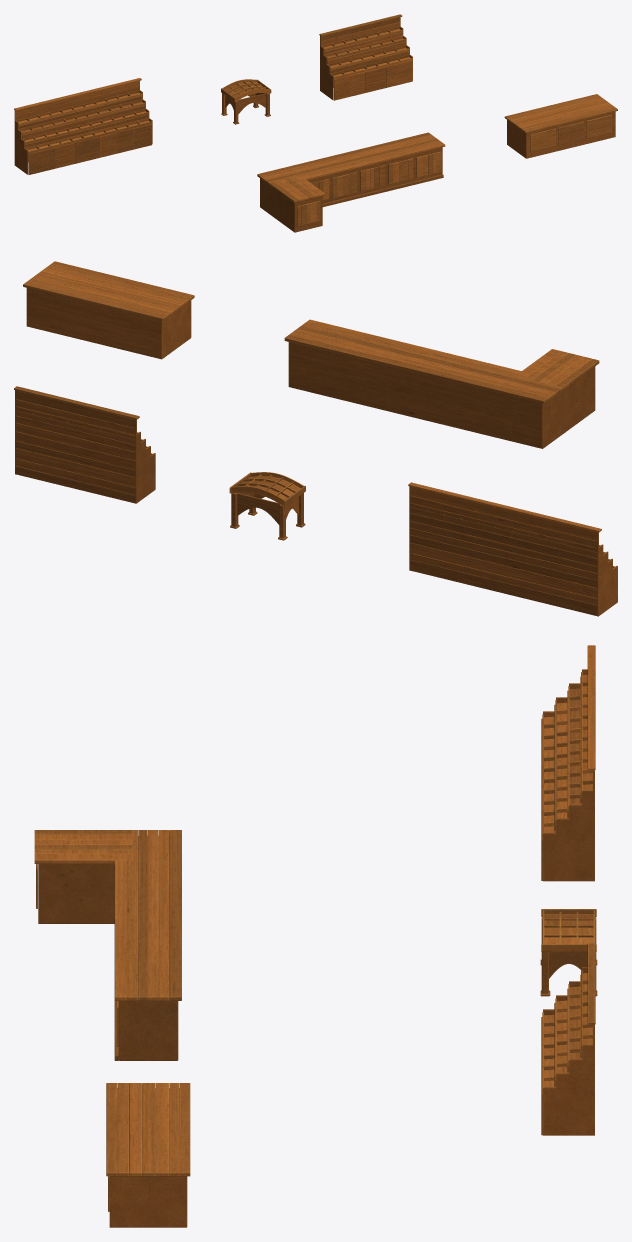
The model's file is shop-furniture.glb.
3 views of the same model, one above another, from view 1: azimuth 30°, elevation 25°; view 2: azimuth 150°, elevation 25°; view 3: azimuth 270°, elevation 25° (orthographic). The views are drawn at different scales.
Visible parts, largest first — view 1: body, body.001, ret, top, back.018, back.019, top.005, riser.003, riser.010, top.003, riser.019, top.004 (+38 smaller); view 2: body, body.001, back.010, back.012, top.005, back.017, back.019, back.016, back.013, ret, back.018, back.014 (+29 smaller); view 3: ret, body.001, body, sidepanel.003, sidepanel.001, top.005, top.001, top.003, top.004, top, top.002, top.009 (+11 smaller).
Part boxes in pixels (left/top/right/bottom): body: left=260, top=147, right=442, bottom=217; body.001: left=507, top=111, right=615, bottom=158; ret: left=274, top=189, right=322, bottom=232; top: left=271, top=142, right=445, bottom=187; back.018: left=14, top=85, right=139, bottom=120; back.019: left=14, top=81, right=139, bottom=115; top.005: left=257, top=132, right=431, bottom=177; riser.003: left=386, top=60, right=412, bottom=87; riser.010: left=28, top=147, right=54, bottom=174; top.003: left=263, top=136, right=436, bottom=181; riser.019: left=22, top=105, right=145, bottom=138; top.004: left=260, top=134, right=433, bottom=179; body: left=288, top=342, right=564, bottom=448; body.001: left=26, top=288, right=191, bottom=359; back.010: left=410, top=560, right=598, bottom=615; back.012: left=409, top=543, right=598, bottom=598; top.005: left=284, top=334, right=548, bottom=403; back.017: left=409, top=503, right=598, bottom=558; back.019: left=409, top=486, right=598, bottom=540; back.016: left=409, top=513, right=598, bottom=566; back.013: left=409, top=535, right=598, bottom=587; ret: left=561, top=366, right=595, bottom=434; back.018: left=409, top=495, right=598, bottom=548; back.014: left=409, top=528, right=598, bottom=580; ret: left=38, top=864, right=114, bottom=923; body.001: left=109, top=1088, right=187, bottom=1227; body: left=118, top=836, right=178, bottom=1060; sidepanel.003: left=543, top=770, right=594, bottom=881; sidepanel.001: left=543, top=1024, right=594, bottom=1135; top.005: left=169, top=830, right=181, bottom=1000; top.001: left=127, top=830, right=138, bottom=1000; top.003: left=148, top=830, right=158, bottom=1000; top.004: left=159, top=830, right=169, bottom=1000; top: left=115, top=834, right=126, bottom=1000; top.002: left=138, top=830, right=147, bottom=1000; top.009: left=142, top=1083, right=155, bottom=1176.
Size of the model in its own units: 17.2 by 1.95 by 8.7.
Materials: 1 (1 with a texture image).
